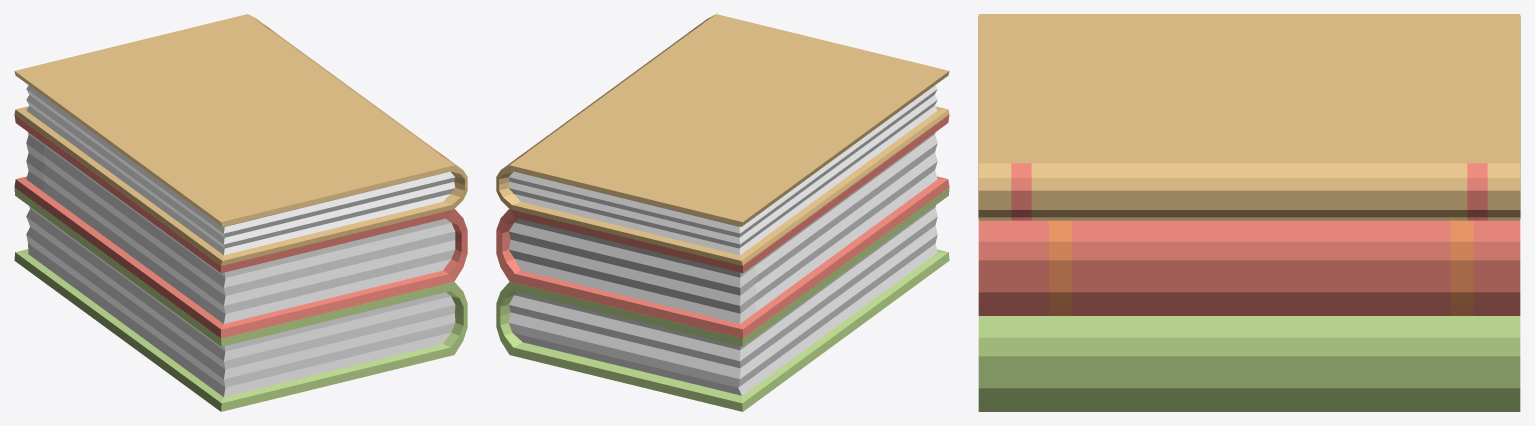
Rendered from Books.fbx.
3 views of the same model, side by side, from view 1: azimuth 30°, elevation 25°; view 2: azimuth 150°, elevation 25°; view 3: azimuth 270°, elevation 25° (orthographic). The views are drawn at different scales.
Visible parts, largest first — view 1: Books_01; view 2: Books_01; view 3: Books_01.
Boxes of the visible parts, <box> form: Books_01: <box>14,14,467,411</box>; Books_01: <box>496,14,949,411</box>; Books_01: <box>978,14,1520,411</box>.
Size of the model in its own units: 0.4753 by 0.3497 by 0.6914.
